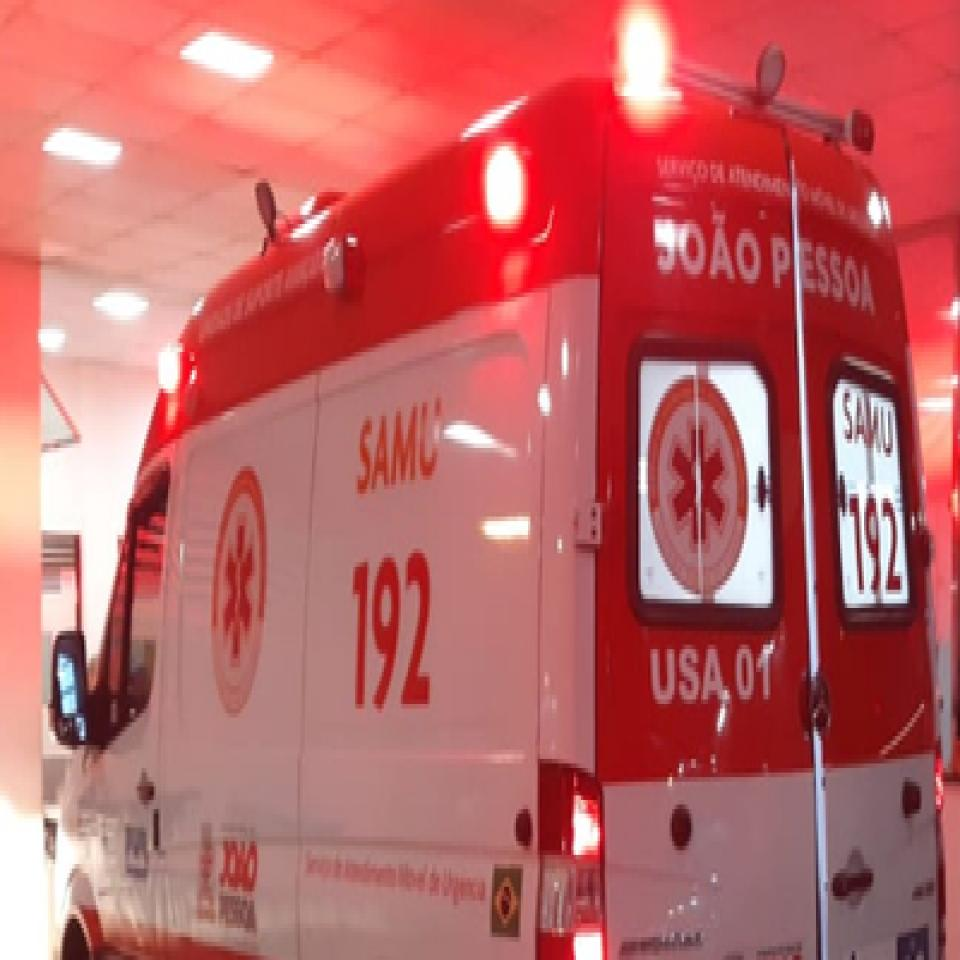bombeiro: (48, 76, 948, 960)
